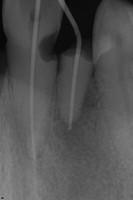Furcation Involvement: (55, 85, 93, 154)
